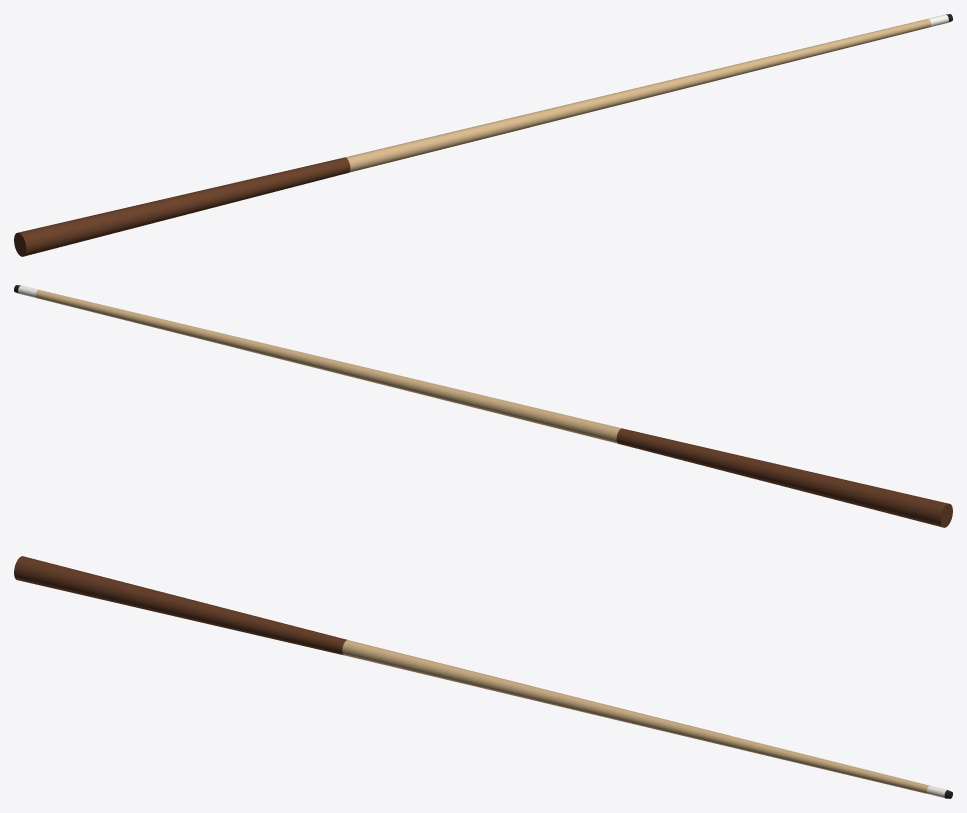
Rendered from cue_01.glb.
The picture shows the model from 3 angles, top to bottom: view 1: azimuth 30°, elevation 25°; view 2: azimuth 150°, elevation 25°; view 3: azimuth 330°, elevation 25°; orthographic projection.
Parts seen in each view (by area): view 1: Cue 1 | shaft, Cue 1 | butt; view 2: Cue 1 | shaft, Cue 1 | butt; view 3: Cue 1 | shaft, Cue 1 | butt.
Part boxes in pixels (<box>): Cue 1 | shaft: <box>345,19,931,172</box>; Cue 1 | butt: <box>14,157,350,256</box>; Cue 1 | shaft: <box>35,290,621,443</box>; Cue 1 | butt: <box>616,428,952,527</box>; Cue 1 | shaft: <box>342,640,929,793</box>; Cue 1 | butt: <box>14,556,347,655</box>.
Size of the model in its own units: 1.47 by 0.034 by 0.034.
